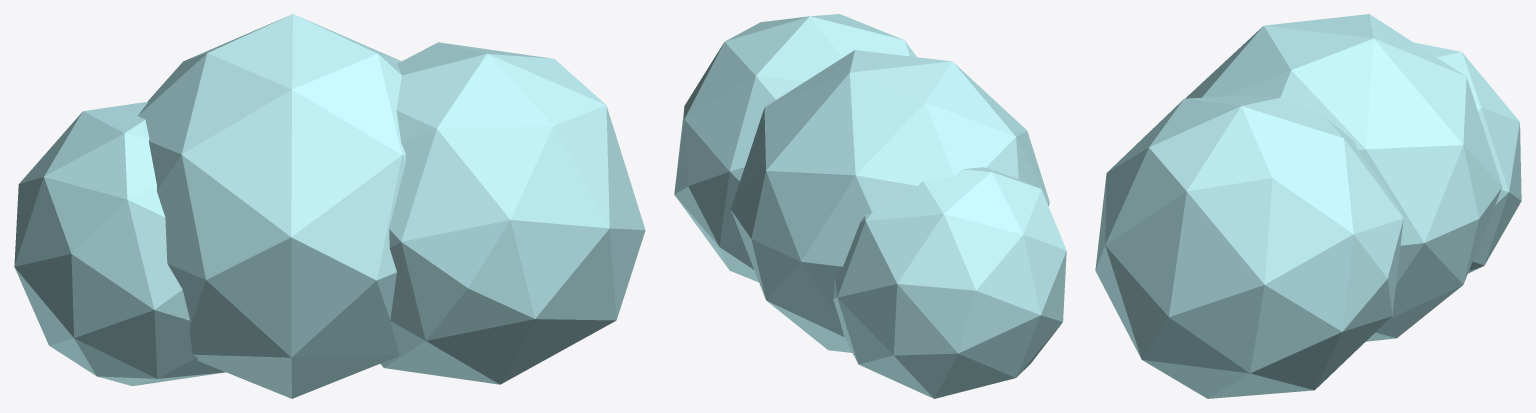
Rendered from cloud6_00008.fbx.
3 renders of one model, left to right at view 1: azimuth 30°, elevation 25°; view 2: azimuth 150°, elevation 25°; view 3: azimuth 270°, elevation 25°, orthographic. The views are drawn at different scales.
Parts seen in each view (by area): view 1: cloud6; view 2: cloud6; view 3: cloud6.
Boxes of the visible parts, bbox=[...] form: cloud6: bbox=[14, 14, 645, 398]; cloud6: bbox=[674, 14, 1066, 398]; cloud6: bbox=[1095, 14, 1521, 398].
Size of the model in its own units: 467 by 300 by 373.
